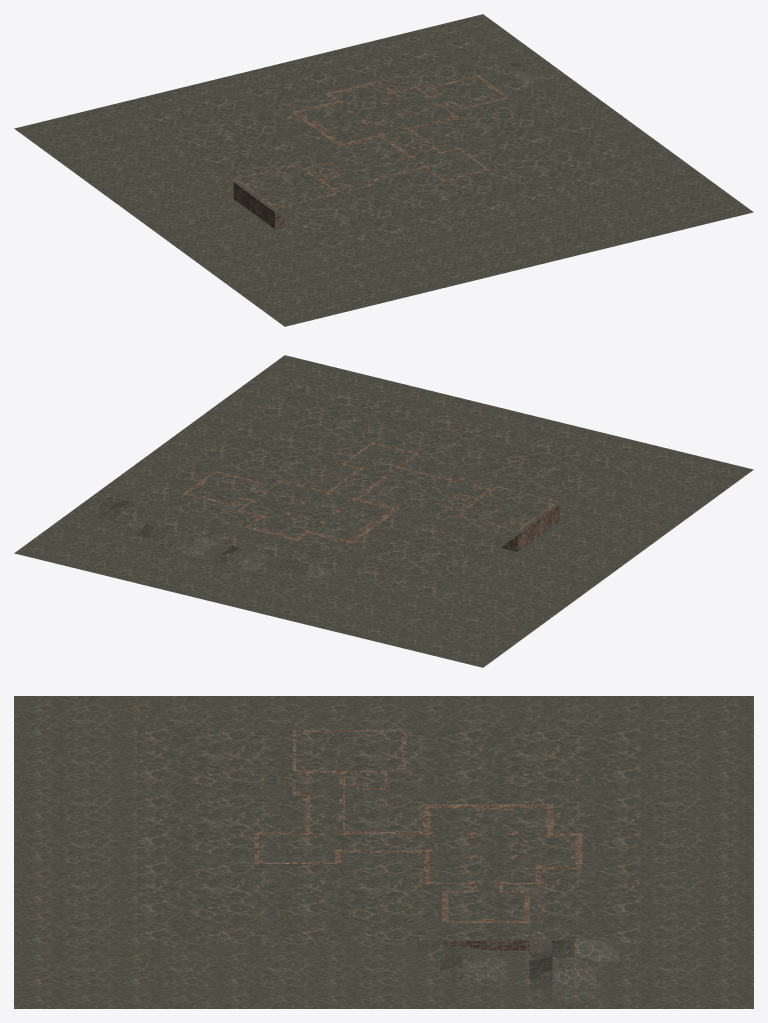
Rendered from Section 2.0.fbx.
3 renders of one model, top to bottom at view 1: azimuth 30°, elevation 25°; view 2: azimuth 150°, elevation 25°; view 3: azimuth 270°, elevation 25°, orthographic. The views are drawn at different scales.
Visible parts, largest first — view 1: Plane.025, Plane, Cube.002, Cube.003; view 2: Plane.025, Plane, Cube.002, Cube.003; view 3: Plane.025, Plane, Cube.002, Cube.003, Cube.001.
Boxes of the visible parts, bbox=[...] form: Plane.025: bbox=[14, 14, 753, 326]; Plane: bbox=[144, 39, 647, 251]; Cube.002: bbox=[233, 129, 487, 229]; Cube.003: bbox=[292, 80, 454, 146]; Plane.025: bbox=[14, 355, 753, 667]; Plane: bbox=[116, 382, 619, 595]; Cube.002: bbox=[328, 443, 559, 551]; Cube.003: bbox=[240, 481, 399, 543]; Plane.025: bbox=[14, 696, 753, 1008]; Plane: bbox=[137, 727, 640, 940]; Cube.002: bbox=[254, 729, 422, 864]; Cube.003: bbox=[422, 804, 582, 890]; Cube.001: bbox=[442, 890, 529, 950].
Bounding box in the file's own units: 15190 × 1614 × 15190.
Materials: 47 (43 with a texture image).
